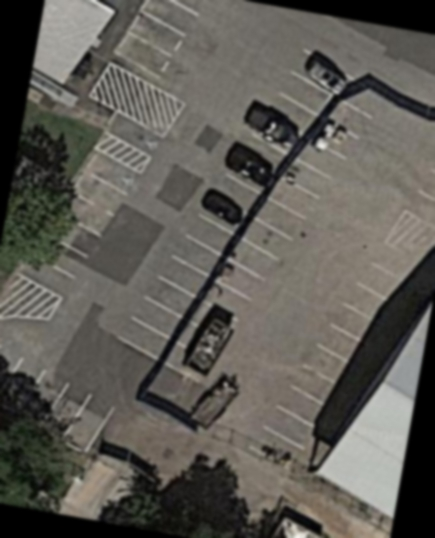parkingspot: (113, 47, 378, 365), (245, 257, 421, 475), (199, 139, 352, 325), (14, 148, 145, 303), (0, 341, 119, 456), (110, 0, 215, 85), (103, 110, 169, 161), (401, 159, 435, 231)
